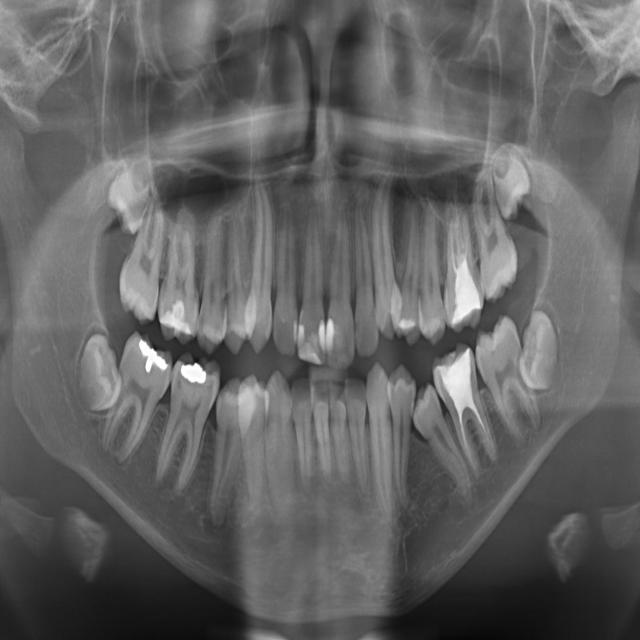AmalgamRestoration: (134, 341, 167, 376), (181, 359, 211, 389), (170, 366, 180, 409)
CompositeResinRestoration: (448, 276, 482, 334), (441, 346, 476, 402), (157, 297, 190, 338), (326, 321, 337, 356), (298, 321, 307, 353), (288, 318, 296, 345), (319, 318, 326, 346)
DentalCaries: (194, 305, 209, 338), (352, 315, 361, 341)
RootCanalTreatment: (456, 389, 491, 478), (445, 210, 474, 278)
